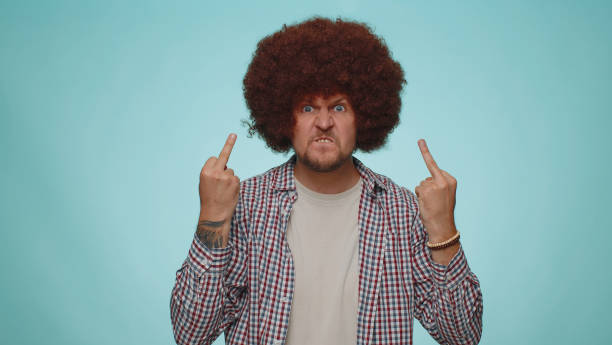insulting_gesture: (408, 137, 461, 236), (194, 131, 246, 221)
